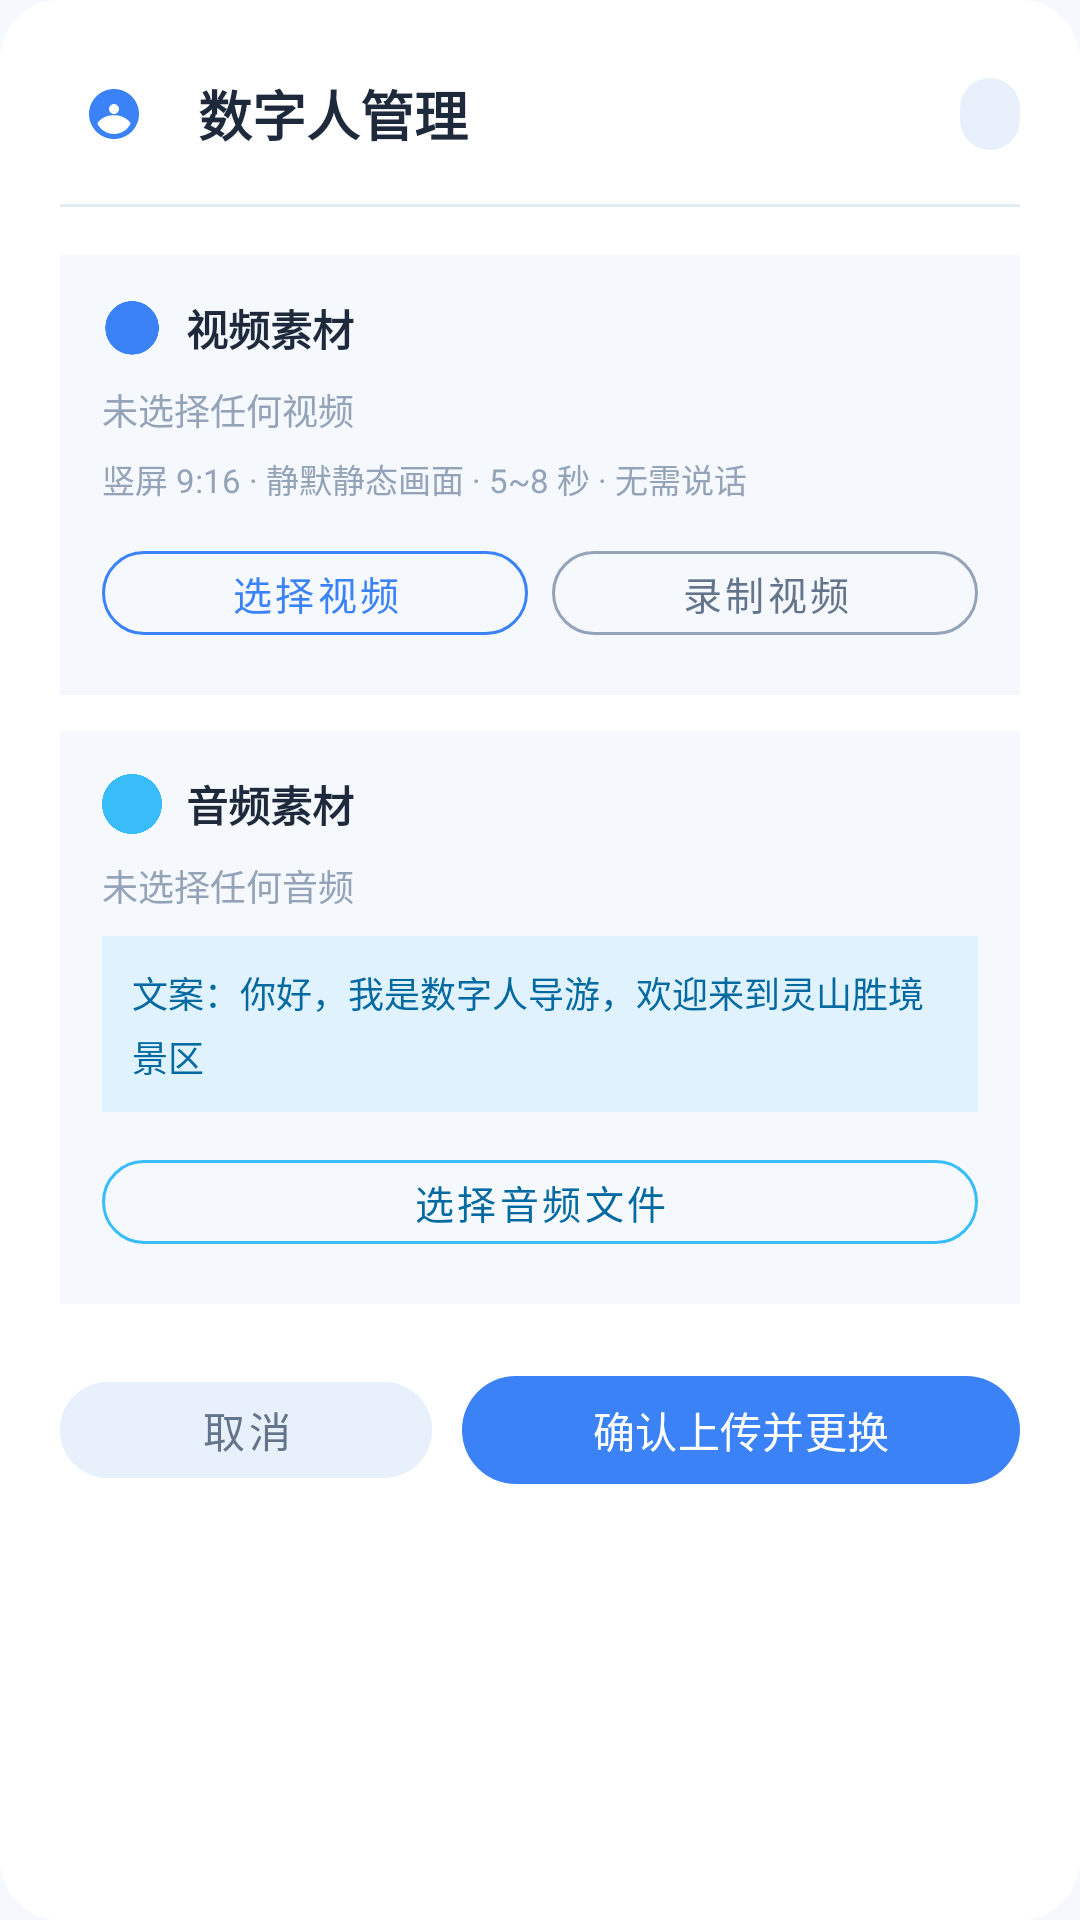

Screen size 1080 × 1920. Icon name, then its center in pixels as (x=x, y=y):
person: (x=114, y=114)
